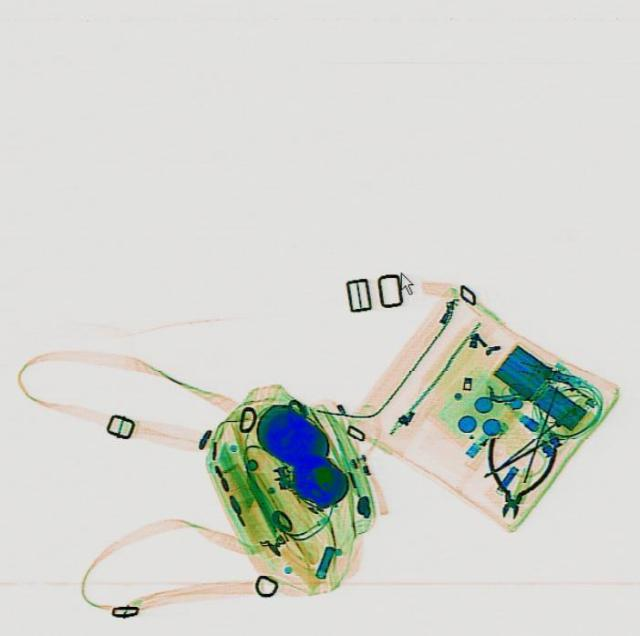Pliers: (474, 433, 556, 522)
